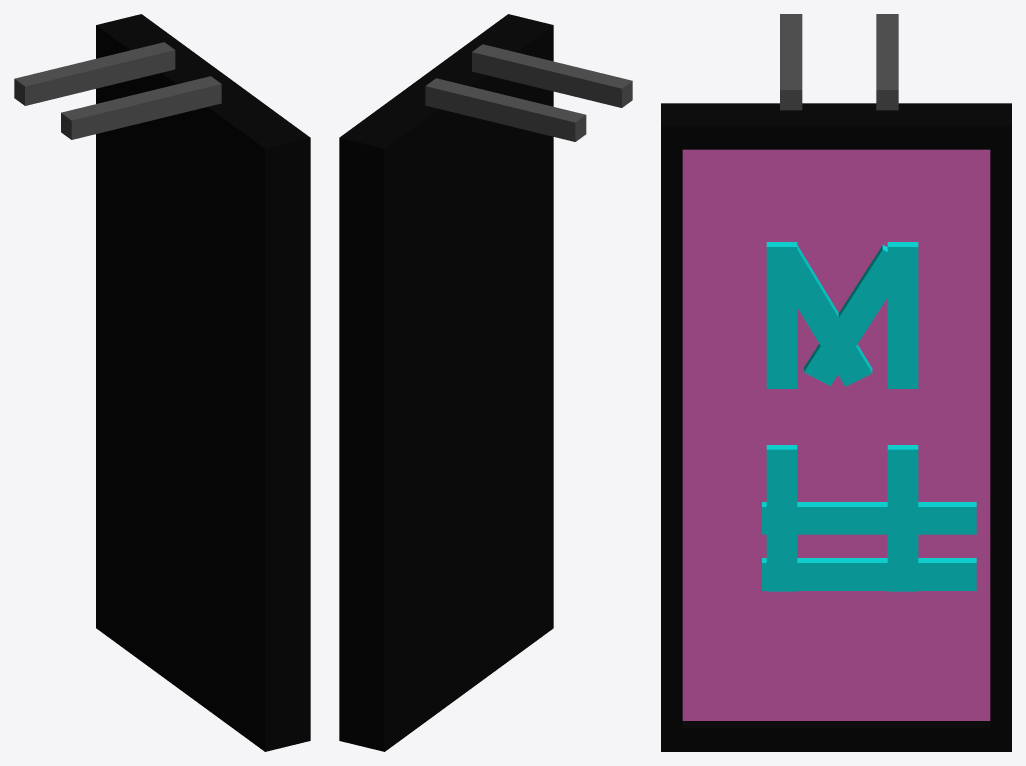
File: NeonBillboard2.fbx
The picture shows the model from 3 angles, left to right: view 1: azimuth 30°, elevation 25°; view 2: azimuth 150°, elevation 25°; view 3: azimuth 270°, elevation 25°; orthographic projection. The views are drawn at different scales.
Parts seen in each view (by area): view 1: Cube.144, Cube.145, Cube.146; view 2: Cube.144, Cube.145, Cube.146; view 3: Cube.144, Cube.163, Cube.164, Cube.162, Cube.147, Cube.158, Cube.160, Cube.161, Cube.159, Cube.145, Cube.146.
Part boxes in pixels (left/top/right/bottom): Cube.144: left=96, top=14, right=310, bottom=751; Cube.145: left=14, top=42, right=175, bottom=105; Cube.146: left=61, top=76, right=221, bottom=139; Cube.144: left=339, top=14, right=553, bottom=751; Cube.145: left=425, top=78, right=586, bottom=141; Cube.146: left=472, top=44, right=632, bottom=107; Cube.144: left=661, top=103, right=1011, bottom=751; Cube.163: left=762, top=502, right=976, bottom=534; Cube.164: left=762, top=558, right=976, bottom=590; Cube.162: left=887, top=445, right=918, bottom=591; Cube.147: left=766, top=242, right=797, bottom=388; Cube.158: left=770, top=245, right=872, bottom=386; Cube.160: left=887, top=242, right=918, bottom=388; Cube.161: left=766, top=445, right=797, bottom=591; Cube.159: left=804, top=245, right=908, bottom=385; Cube.145: left=876, top=14, right=898, bottom=110; Cube.146: left=780, top=14, right=802, bottom=110.
Bounding box in the file's own units: 2.81 × 9.21 × 4.53.
